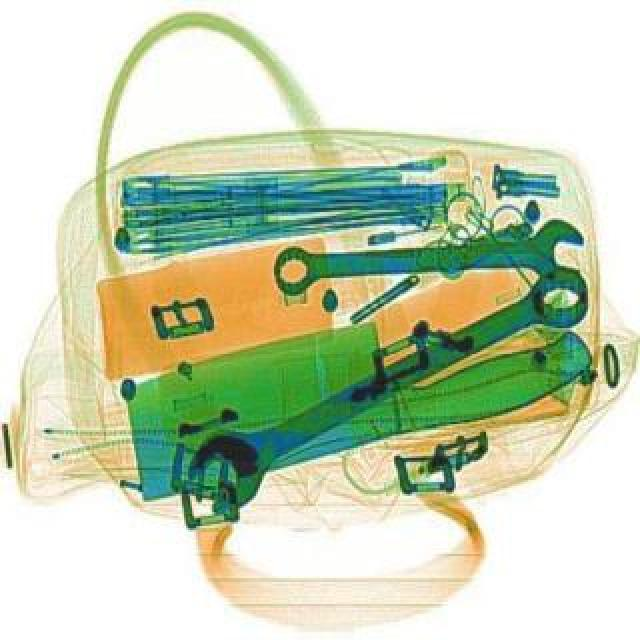knife: (106, 266, 598, 498)
scissors: (172, 246, 604, 516), (270, 214, 586, 298)
